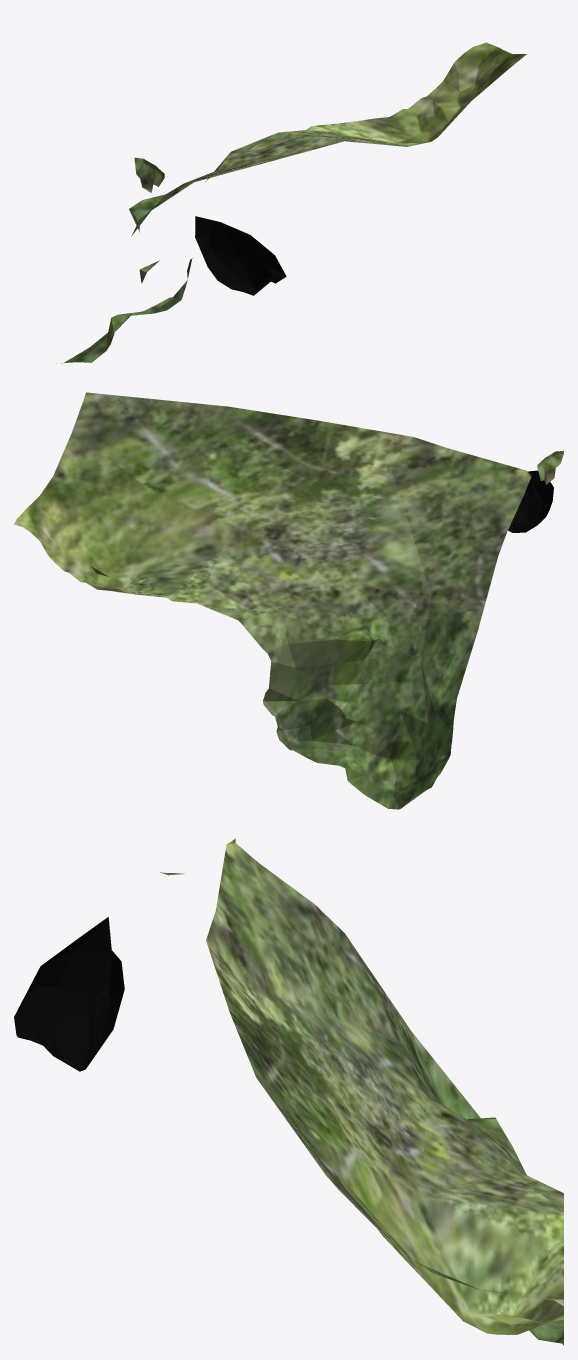
3 views of the same model, one above another, from view 1: azimuth 30°, elevation 25°; view 2: azimuth 150°, elevation 25°; view 3: azimuth 270°, elevation 25° (orthographic). The views are drawn at different scales.
Bounding box in the file's own units: 26.11 × 16.26 × 18.01.
Materials: 2 (2 with a texture image).
